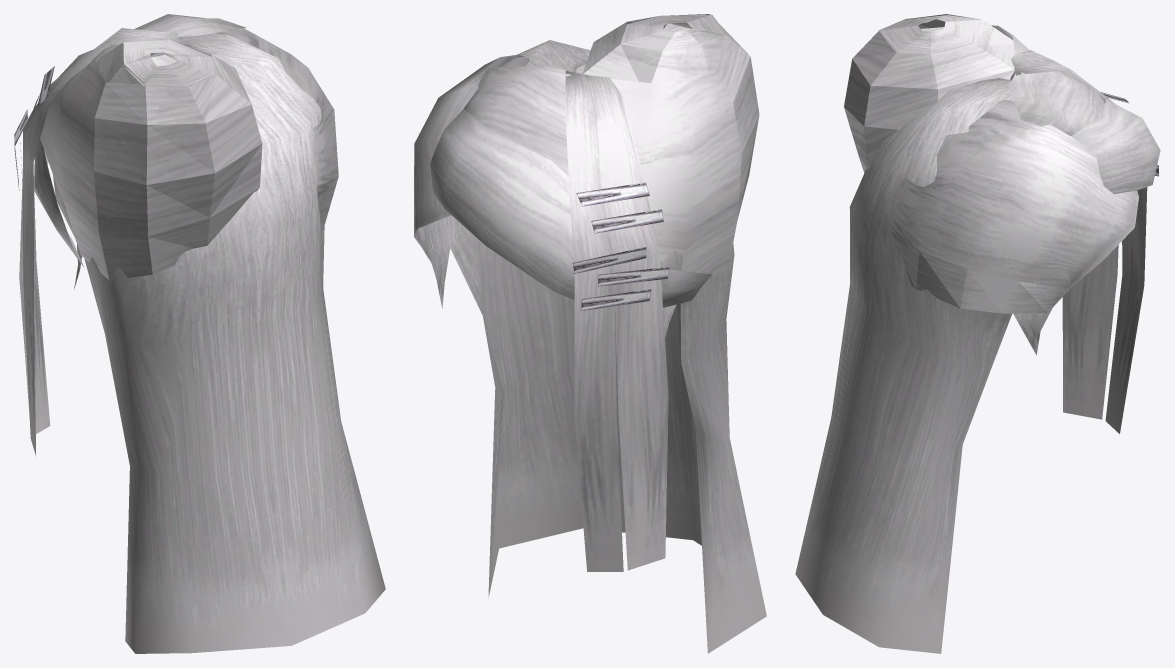
Rendered from Mage female hair 45.glb.
3 renders of one model, left to right at view 1: azimuth 30°, elevation 25°; view 2: azimuth 150°, elevation 25°; view 3: azimuth 270°, elevation 25°, orthographic. The views are drawn at different scales.
Visible parts, largest first — view 1: 15_0, 15_1; view 2: 15_0, 15_1; view 3: 15_0.
Part boxes in pixels (x1,y1,x2,y2): 15_0: (19,14,385,653); 15_1: (14,66,54,190); 15_0: (414,14,766,653); 15_1: (572,182,669,310); 15_0: (795,14,1160,653).
Size of the model in its own units: 0.1695 by 0.3581 by 0.2148.
2 materials, 2 textured.
